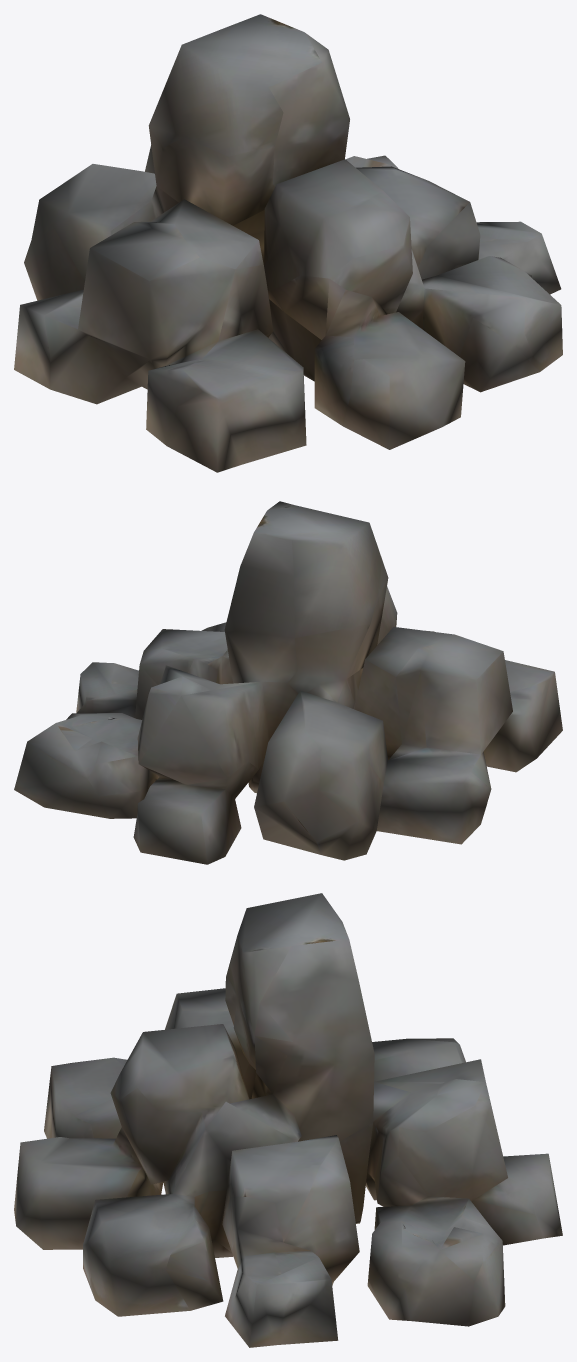
The model's file is rock-sharp.glb.
3 views of the same model, one above another, from view 1: azimuth 30°, elevation 25°; view 2: azimuth 150°, elevation 25°; view 3: azimuth 270°, elevation 25° (orthographic). The views are drawn at different scales.
Visible parts, largest first — view 1: tripo_node_cf06db43-78d2-4a77-89a6-317508694a39; view 2: tripo_node_cf06db43-78d2-4a77-89a6-317508694a39; view 3: tripo_node_cf06db43-78d2-4a77-89a6-317508694a39.
Boxes of the visible parts, bbox=[...] form: tripo_node_cf06db43-78d2-4a77-89a6-317508694a39: bbox=[14, 14, 562, 472]; tripo_node_cf06db43-78d2-4a77-89a6-317508694a39: bbox=[14, 501, 562, 864]; tripo_node_cf06db43-78d2-4a77-89a6-317508694a39: bbox=[14, 893, 562, 1347].
Bounding box in the file's own units: 0.9833 × 0.5748 × 0.9755.
1 material, 1 textured.
